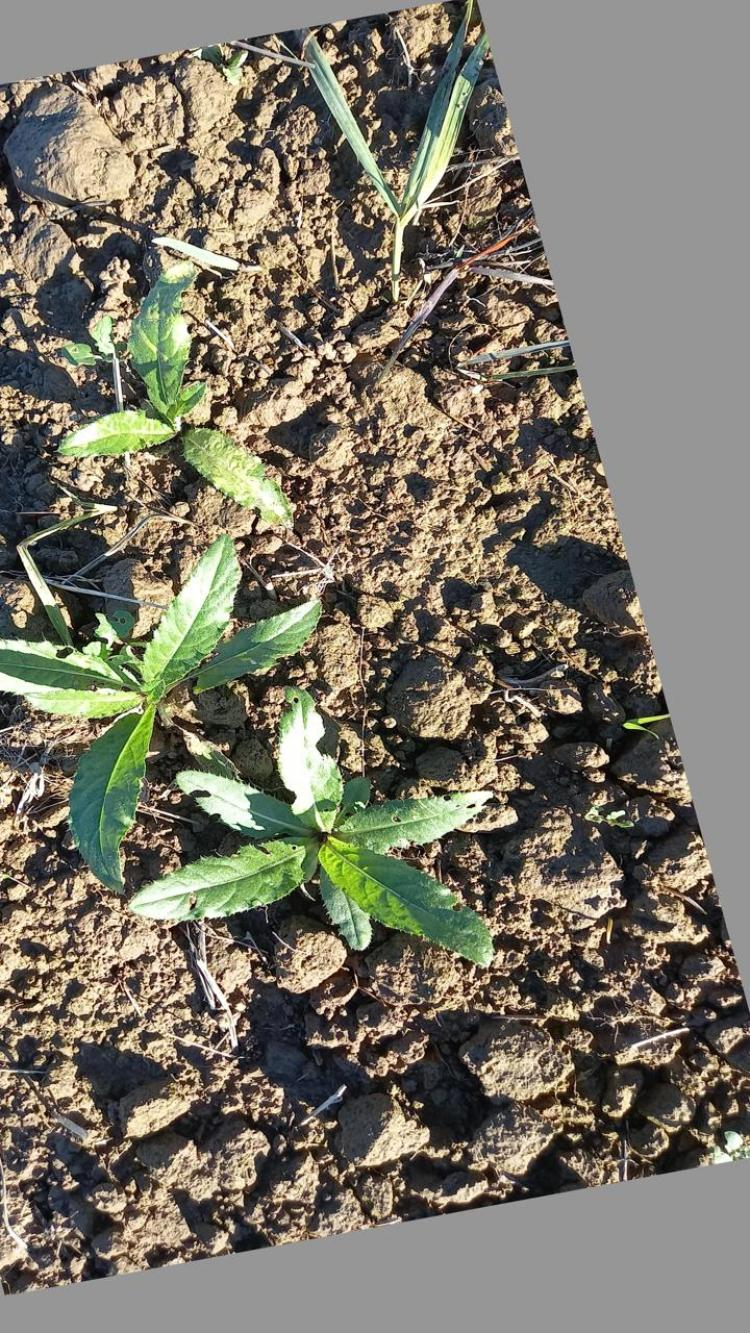osot: (2, 531, 323, 873), (156, 677, 502, 981)
